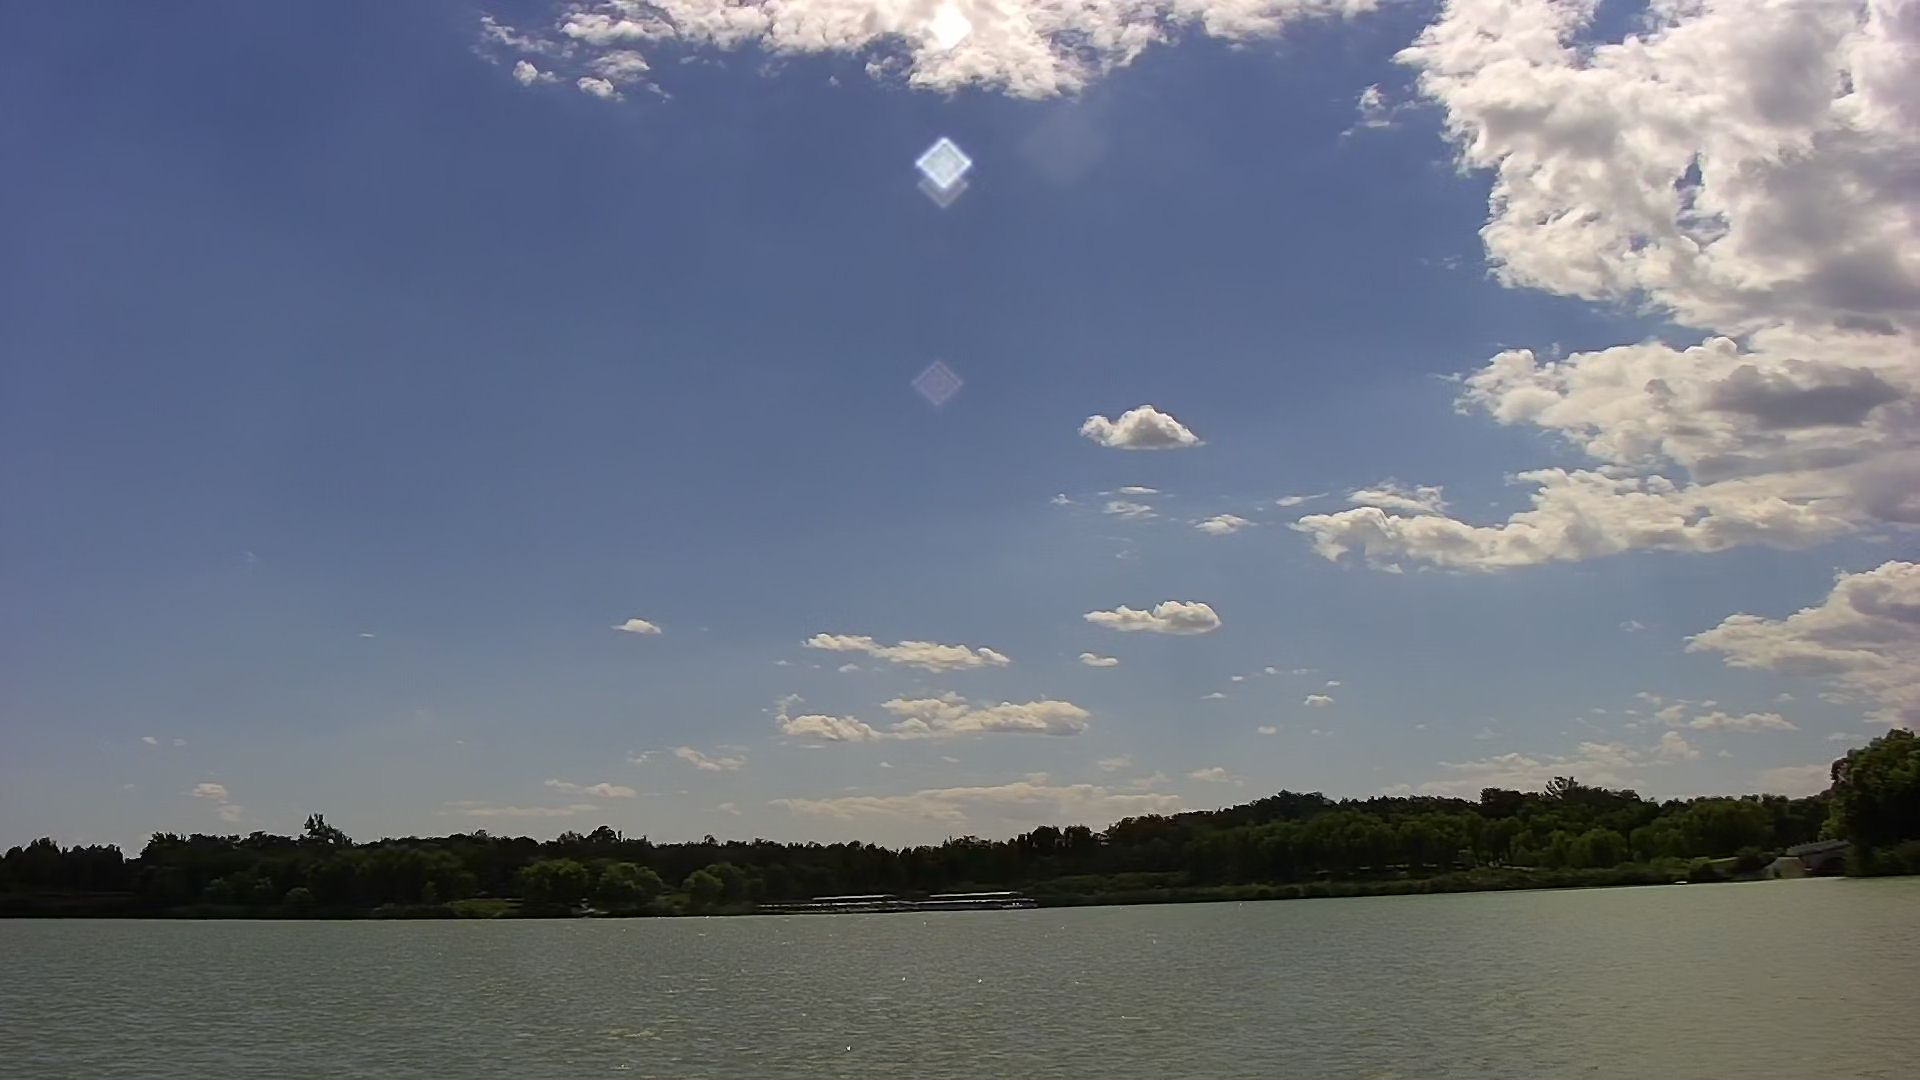harbor: (818, 893, 1015, 915)
